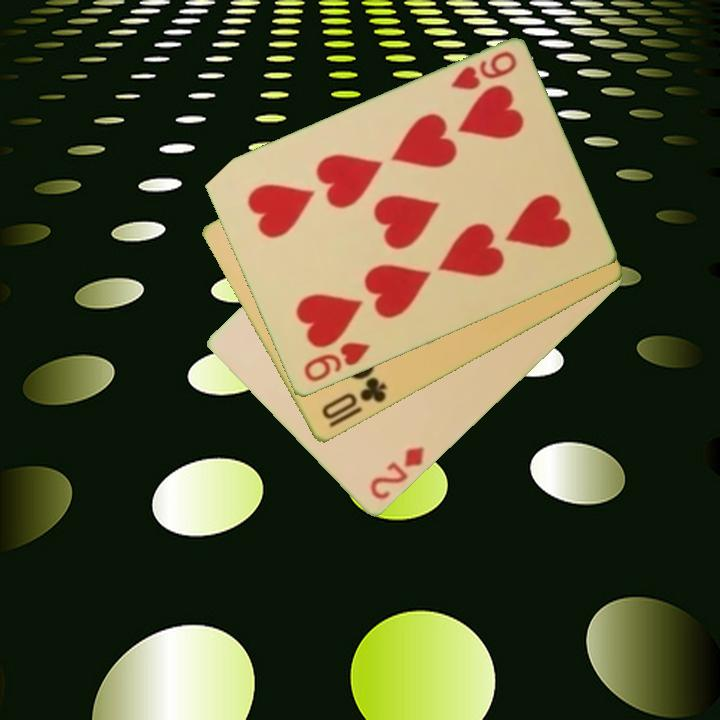10c: (317, 374, 390, 424)
2d: (366, 443, 428, 504)
9h: (300, 339, 373, 386), (447, 48, 520, 94)
